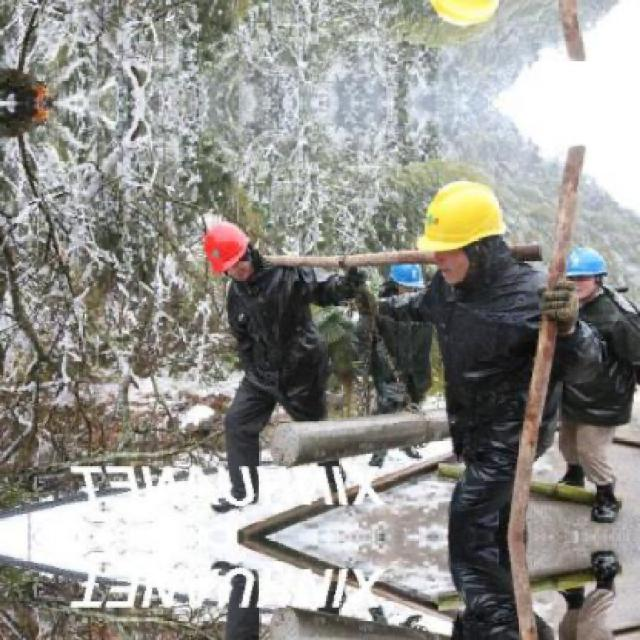helmet: (416, 174, 512, 286), (198, 211, 258, 286), (415, 0, 514, 31), (565, 246, 609, 297), (385, 250, 423, 296)
